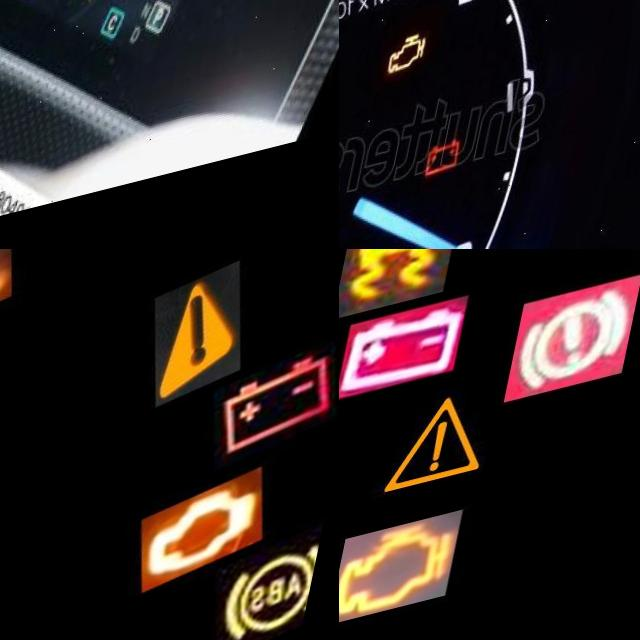Central Warning lamp: (145, 280, 273, 434), (387, 381, 524, 522)
